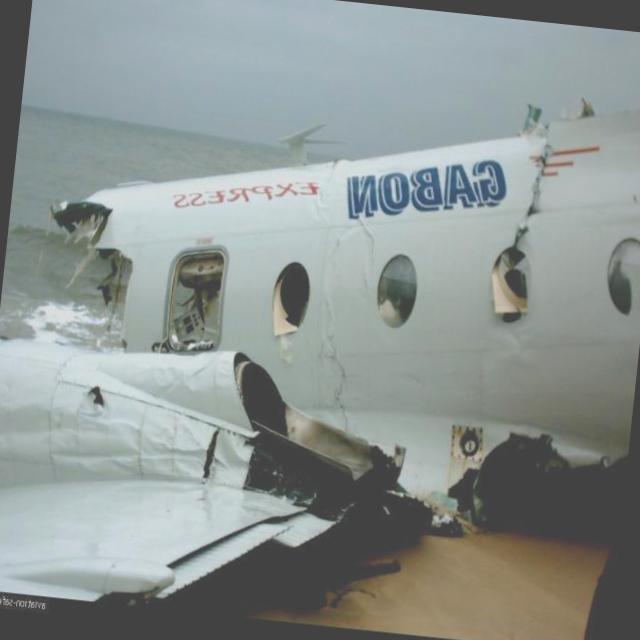crack: (303, 289, 364, 436), (508, 131, 560, 254), (338, 208, 381, 260), (197, 422, 220, 480), (316, 152, 340, 200)
